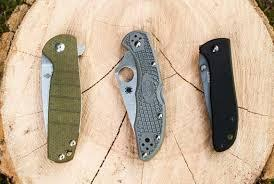Knife: (114, 29, 166, 161), (39, 33, 86, 164), (198, 37, 240, 153)
